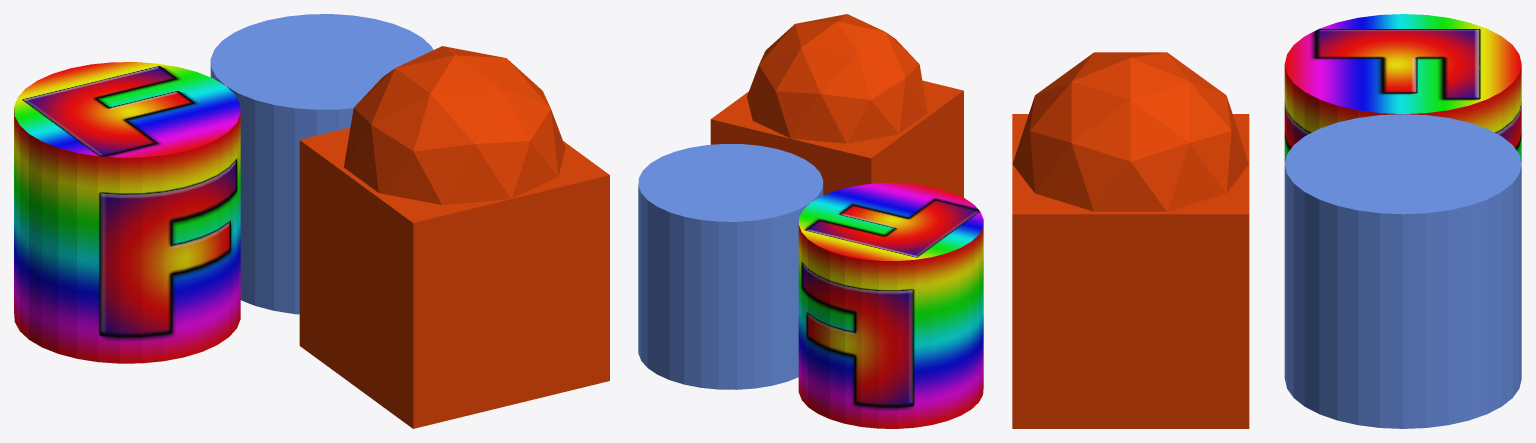
File: uncompressed.gltf
The picture shows the model from 3 angles, left to right: view 1: azimuth 30°, elevation 25°; view 2: azimuth 150°, elevation 25°; view 3: azimuth 270°, elevation 25°; orthographic projection. The views are drawn at different scales.
Visible parts, largest first — view 1: Cube, Cylinder.001, Cylinder, Icosphere; view 2: Cylinder.001, Cylinder, Icosphere, Cube; view 3: Cylinder, Cube, Icosphere, Cylinder.001.
Part boxes in pixels (x1,y1,x2,y2): Cube: (299,127,609,428); Cylinder.001: (14,62,240,363); Cylinder: (210,14,433,314); Icosphere: (344,46,565,204); Cylinder.001: (798,183,983,428); Cylinder: (638,144,823,389); Icosphere: (747,14,927,143); Cube: (710,80,963,197); Cylinder: (1284,114,1521,428); Cube: (1012,114,1249,428); Icosphere: (1012,52,1248,211); Cylinder.001: (1284,14,1521,163).
Bounding box in the file's own units: 4 × 2.99 × 4.3.
3 materials, 1 textured.
